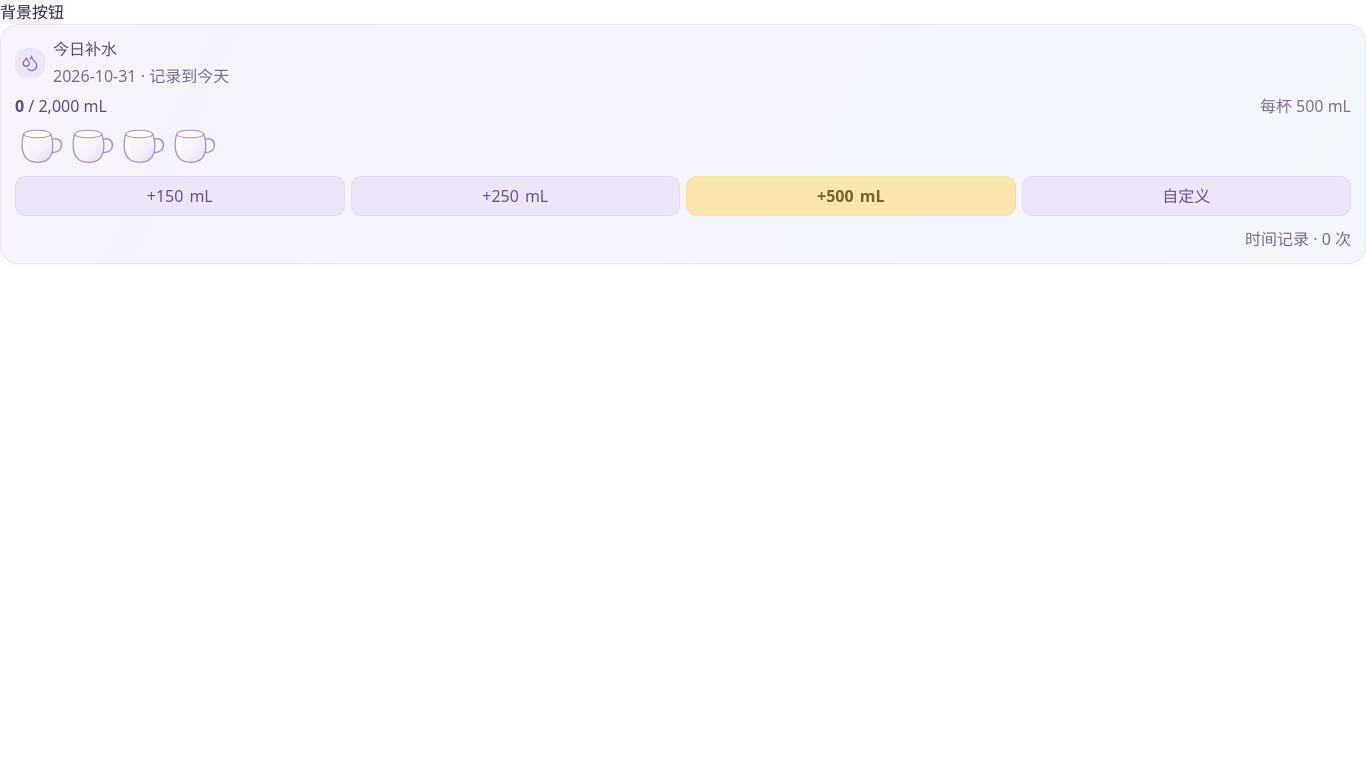
Test case: record panel keeps quick actions open, updates total, and retains focus isolation
The width and height of the screenshot is (1366, 768).
Click the button "时间记录 · 0 次" at (1298, 239), box 1245,224 -> 1351,254
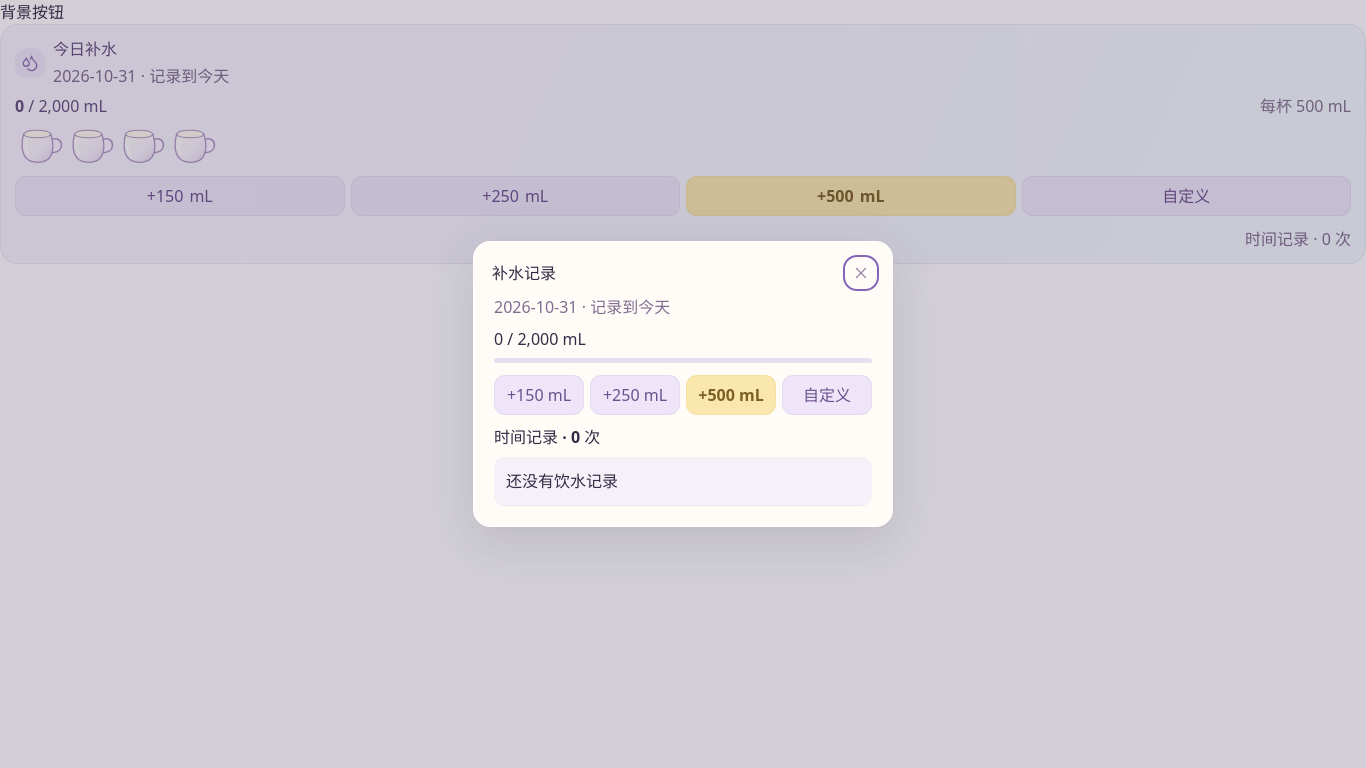
Now the dialog "补水记录" is shown, box 473,241 -> 893,527
Click the button with aria-label "记录 500 mL" at (731, 395), box 686,375 -> 776,415
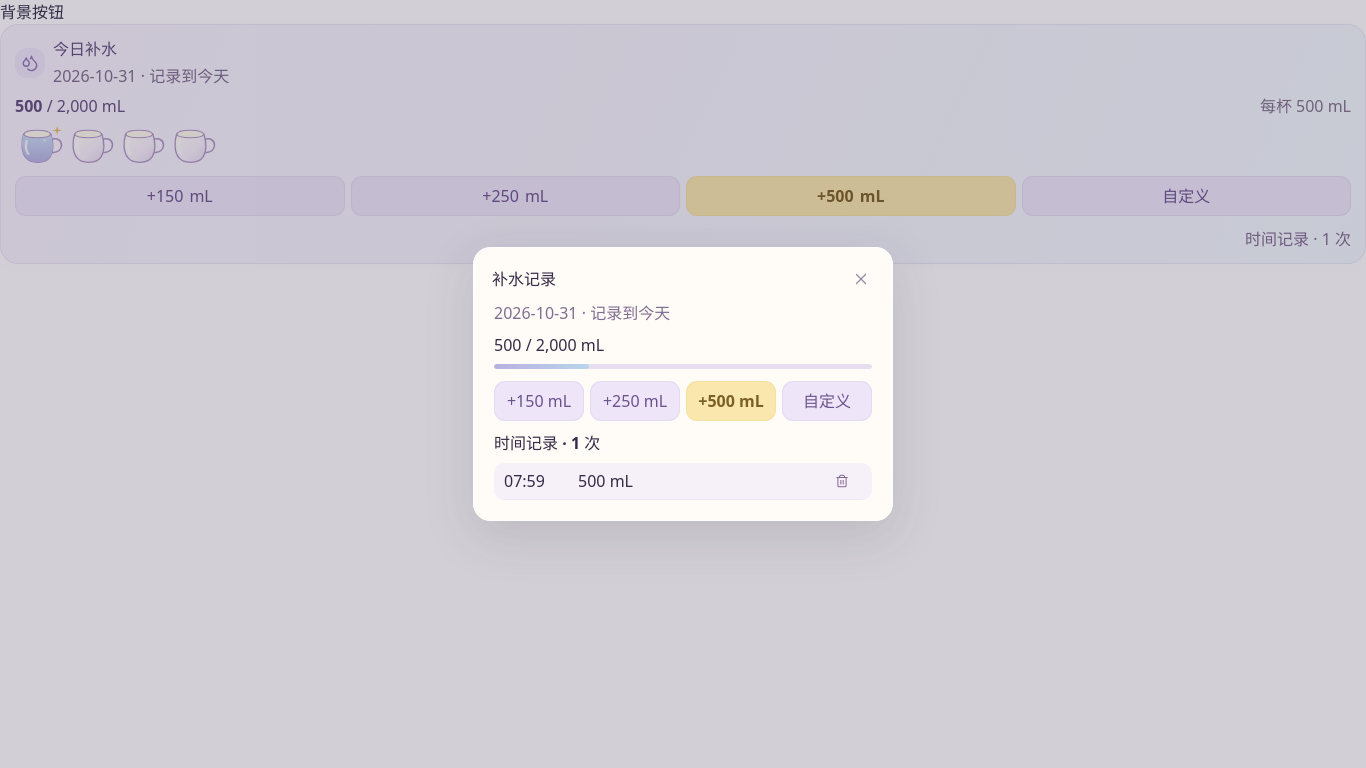
Now the dialog is shown, box 473,247 -> 893,521
Click the button with aria-label "自定义容量" at (827, 401), box 782,381 -> 872,421
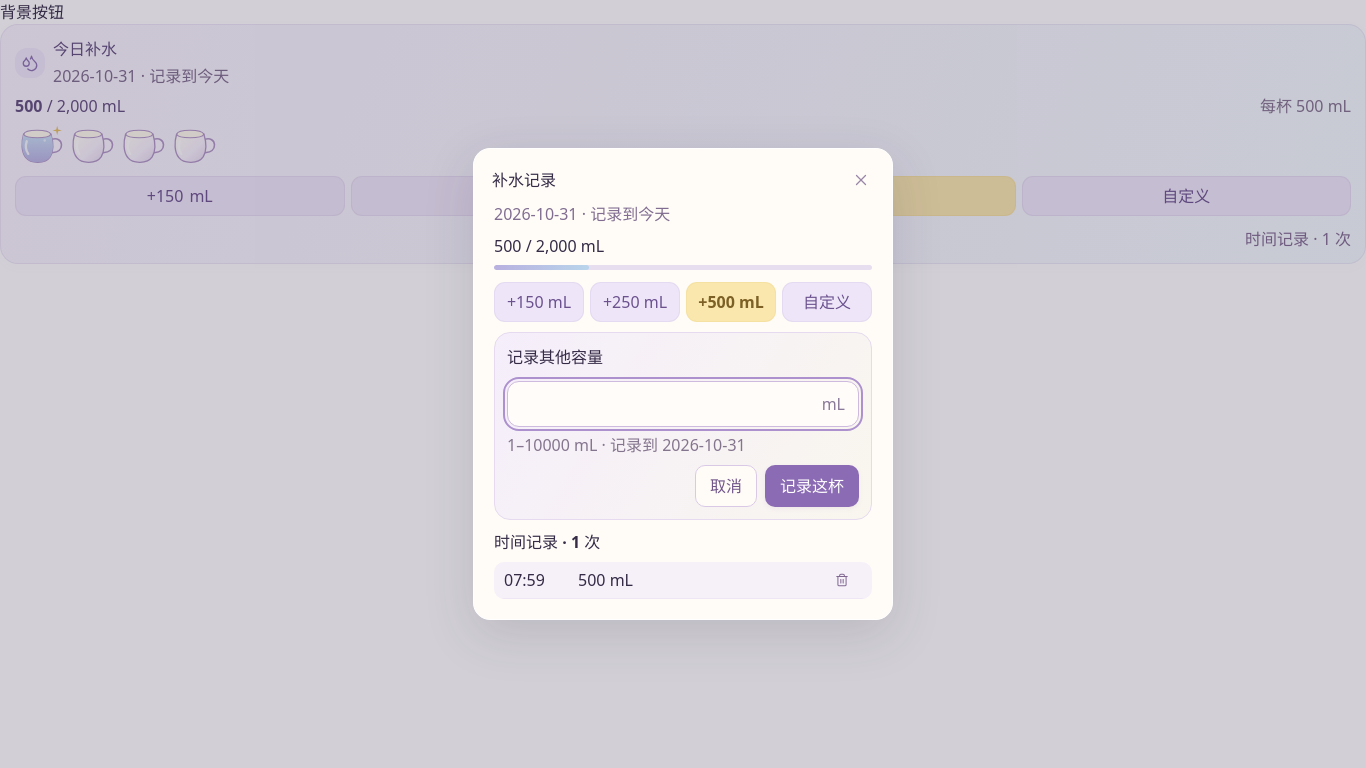
Now the field named "自定义饮水容量" is shown, box 521,382 -> 814,426
Press Escape
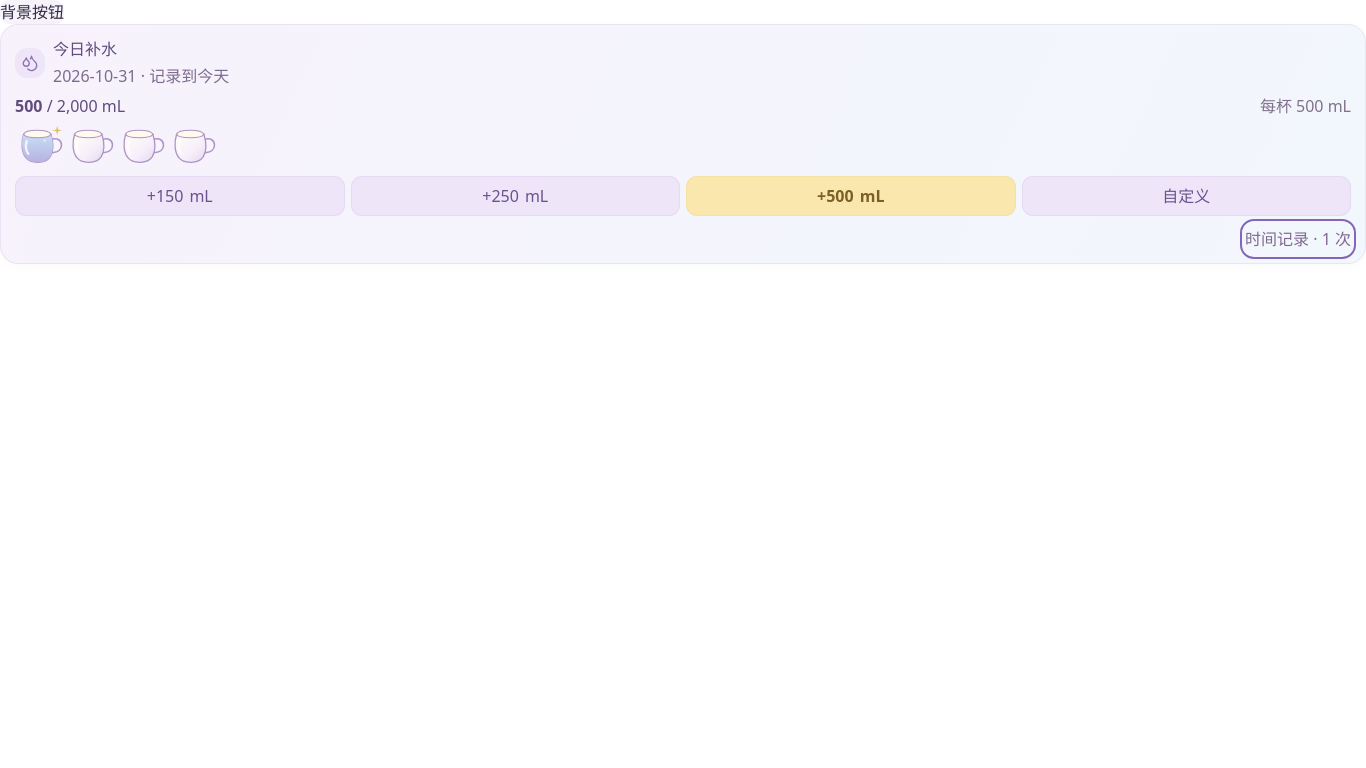
Now the dialog is gone
